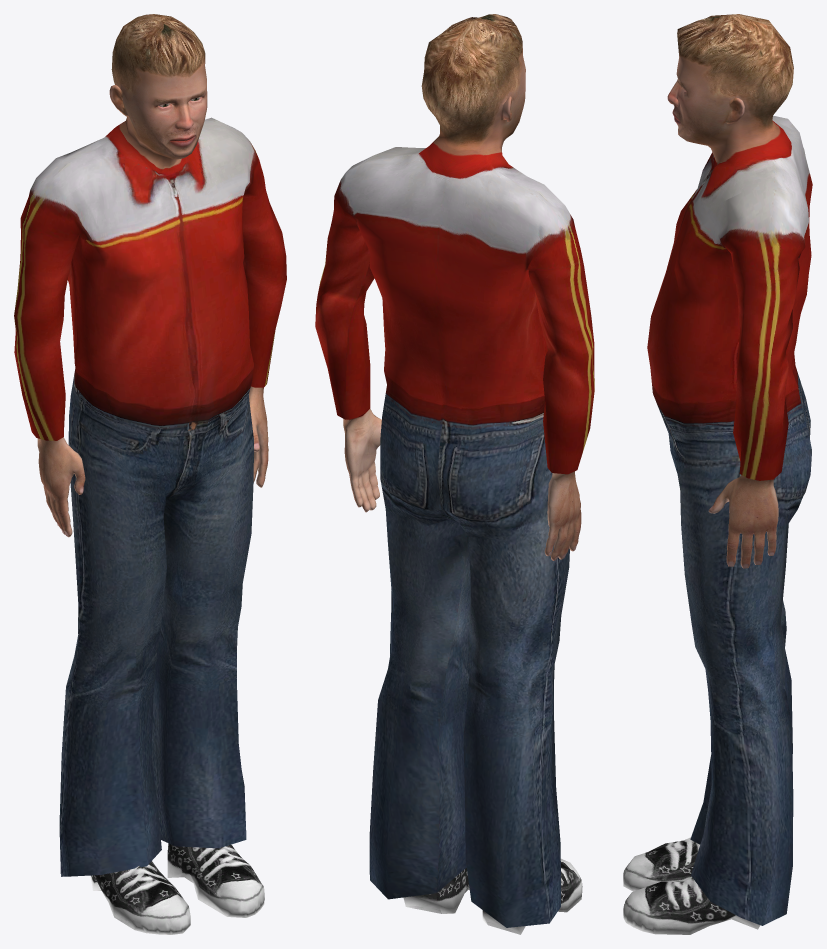
Rendered from Man_Jacket_1.gltf.
3 views of the same model, side by side, from view 1: azimuth 30°, elevation 25°; view 2: azimuth 150°, elevation 25°; view 3: azimuth 270°, elevation 25° (orthographic). The views are drawn at different scales.
Parts seen in each view (by area): view 1: Man_Jacket_1; view 2: Man_Jacket_1; view 3: Man_Jacket_1.
Part boxes in pixels (x1,y1,x2,y2): Man_Jacket_1: (14,14,286,934); Man_Jacket_1: (315,14,594,934); Man_Jacket_1: (623,14,812,934).
Size of the model in its own units: 0.602 by 1.88 by 0.3647.
1 material, 1 textured.
